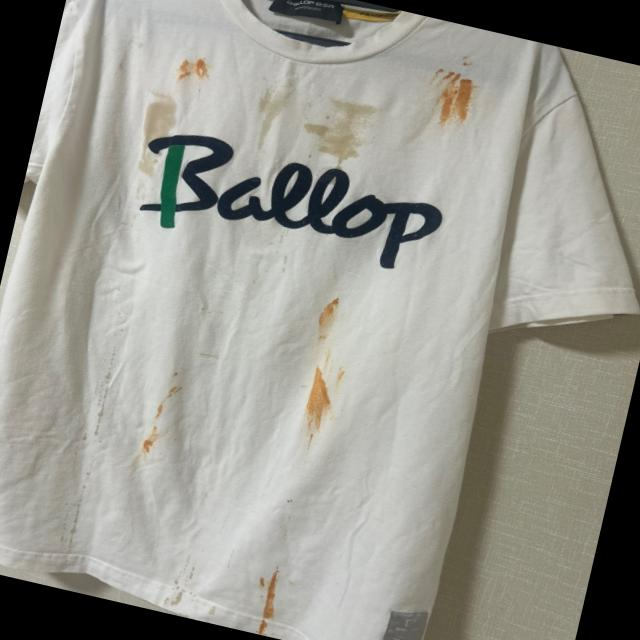stain: (295, 364, 338, 450), (90, 350, 120, 436), (138, 88, 180, 136), (256, 568, 282, 636), (132, 127, 166, 178), (300, 121, 362, 148), (312, 138, 358, 172), (313, 293, 342, 345), (326, 96, 380, 120), (451, 75, 477, 122), (258, 99, 280, 151), (56, 510, 82, 554), (435, 82, 459, 128), (324, 110, 364, 134), (170, 54, 194, 86), (190, 54, 216, 82), (136, 430, 157, 458), (177, 558, 199, 584), (277, 78, 296, 108), (431, 66, 461, 84), (74, 482, 88, 516), (170, 586, 188, 610), (222, 548, 238, 574), (273, 252, 291, 275), (163, 384, 181, 407), (318, 350, 334, 375), (257, 89, 274, 112), (332, 368, 348, 386), (340, 109, 364, 120), (152, 403, 165, 421), (256, 576, 270, 592), (82, 463, 95, 479), (278, 227, 290, 243), (282, 577, 297, 589), (206, 606, 219, 618), (194, 83, 204, 97), (172, 368, 182, 381), (148, 424, 158, 436), (80, 430, 88, 444), (284, 494, 292, 506)
